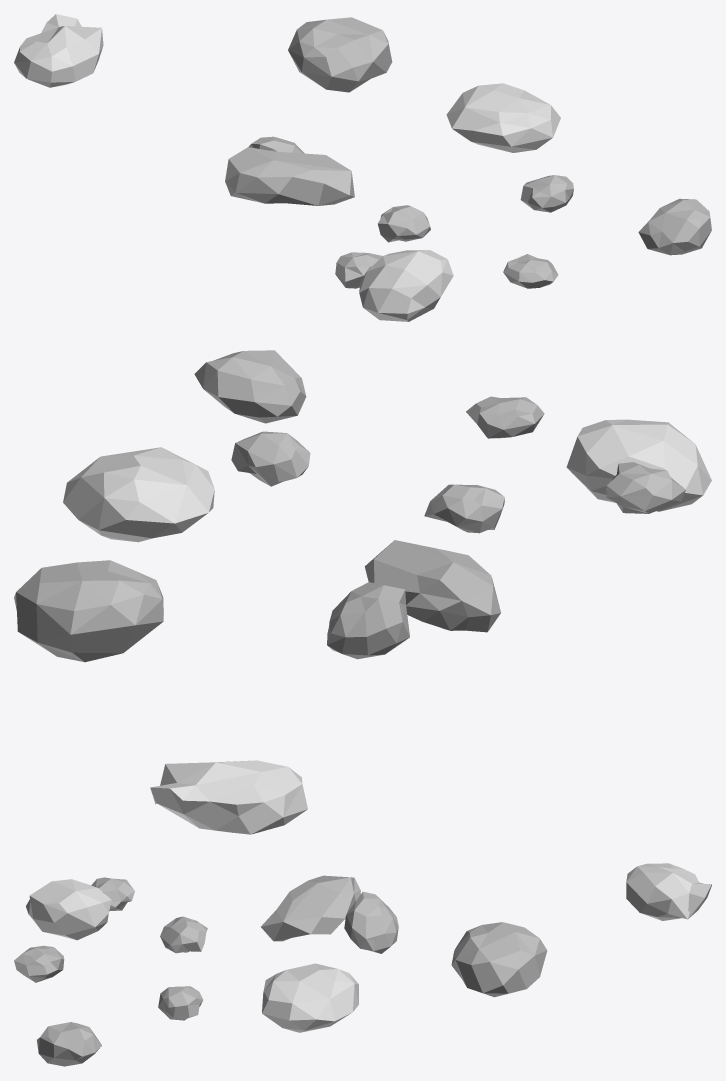
Rendered from stones_020.glb.
The picture shows the model from 3 angles, top to bottom: view 1: azimuth 30°, elevation 25°; view 2: azimuth 150°, elevation 25°; view 3: azimuth 270°, elevation 25°; orthographic projection. The views are drawn at different scales.
Parts seen in each view (by area): view 1: stones_020; view 2: stones_020; view 3: stones_020.
Boxes of the visible parts, x1,y1,x2,y2 form: stones_020: (14, 14, 711, 321); stones_020: (14, 350, 711, 834); stones_020: (14, 863, 711, 1066).
Bounding box in the file's own units: 7.85 × 1.67 × 13.24.
1 material, 1 textured.
